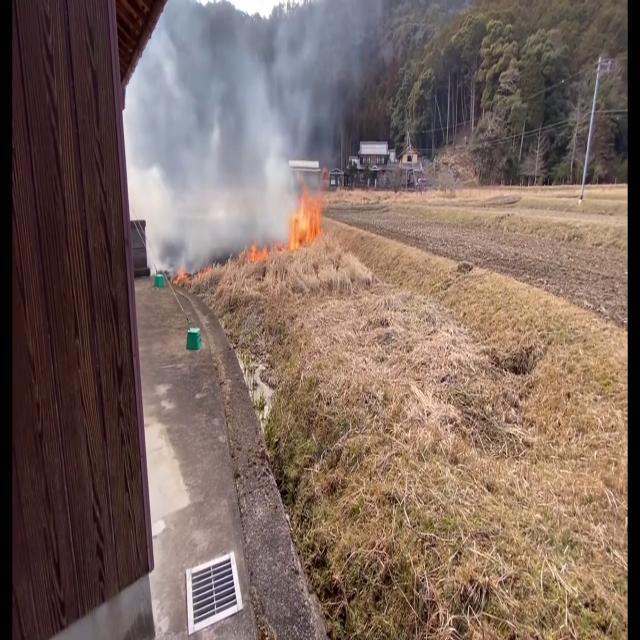Fire: (286, 180, 326, 252)
Smoke: (126, 0, 306, 268)
